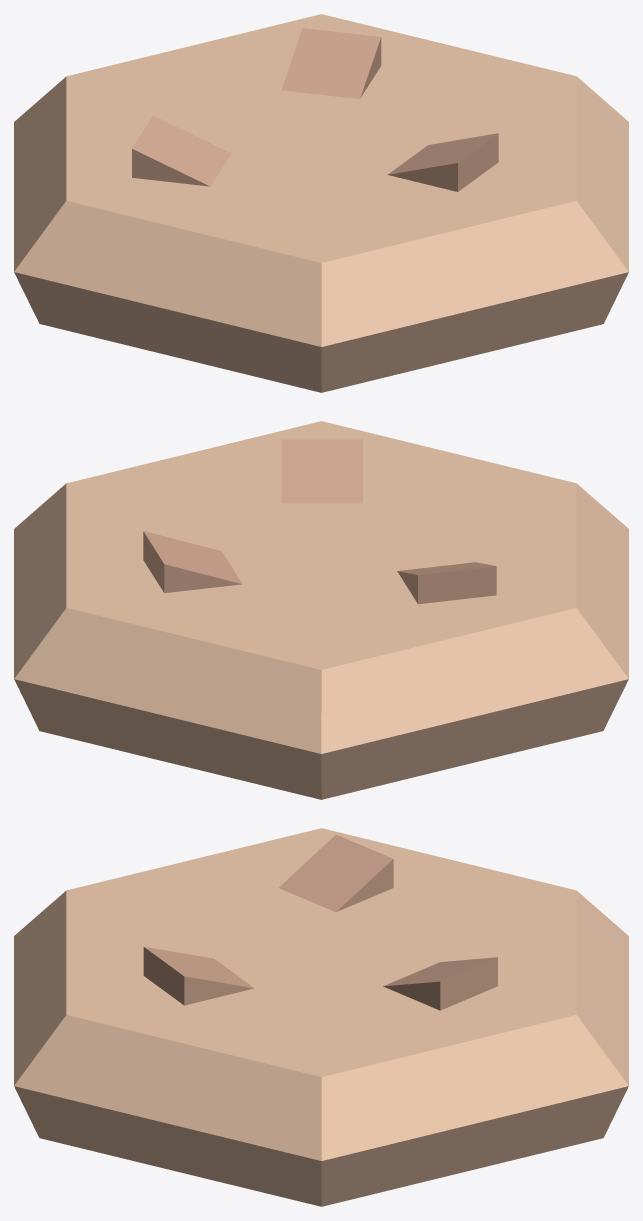
The model's file is cookie.glb.
3 views of the same model, one above another, from view 1: azimuth 30°, elevation 25°; view 2: azimuth 150°, elevation 25°; view 3: azimuth 270°, elevation 25° (orthographic).
Parts seen in each view (by area): view 1: cookie; view 2: cookie; view 3: cookie.
Boxes of the visible parts, box(x1,y1,x2,y2) form: cookie: box(14, 14, 628, 392); cookie: box(14, 421, 628, 799); cookie: box(14, 828, 628, 1206).
Size of the model in its own units: 0.2197 by 0.0498 by 0.1903.
